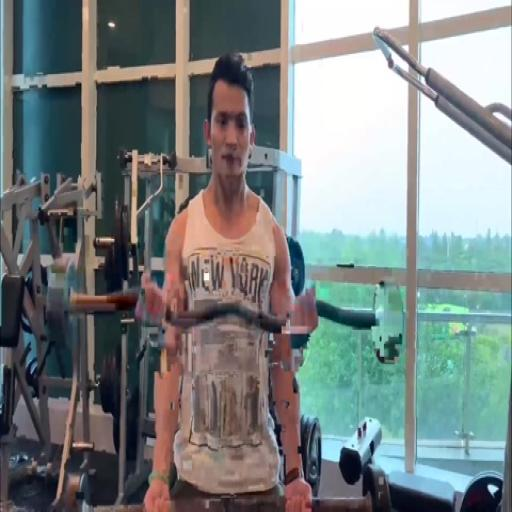exercise: (138, 50, 316, 510)
